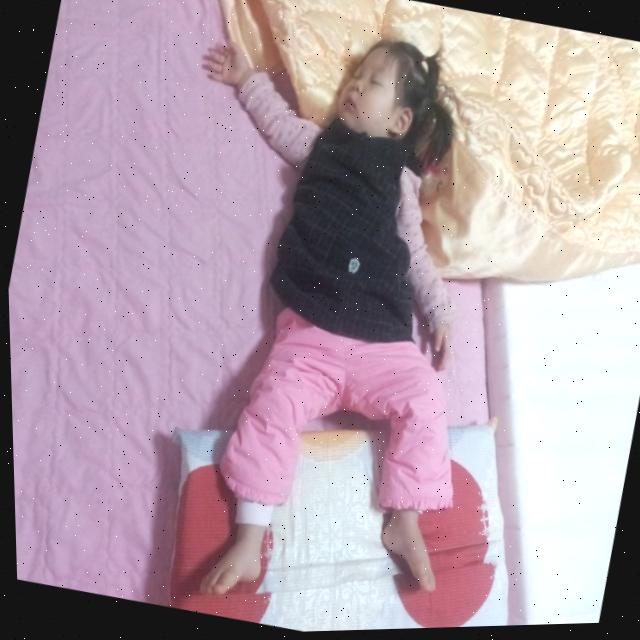sleeping-person: (84, 0, 552, 638)
